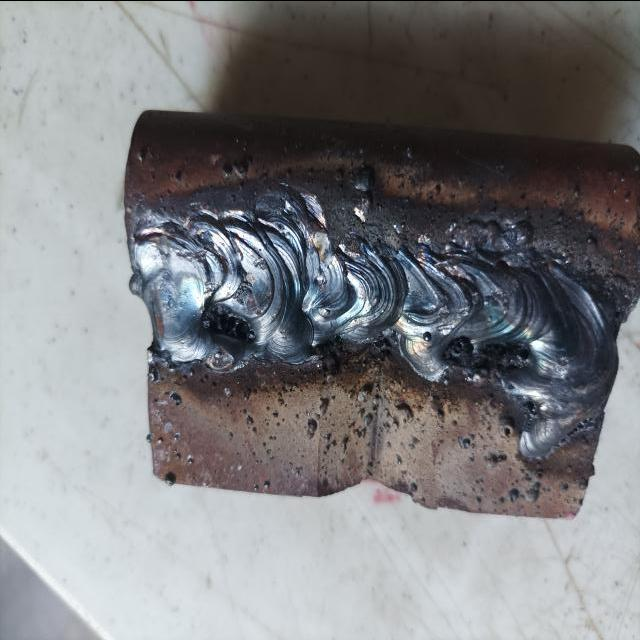defect: (201, 302, 260, 344), (440, 332, 475, 363), (232, 278, 253, 303), (515, 343, 531, 365)
